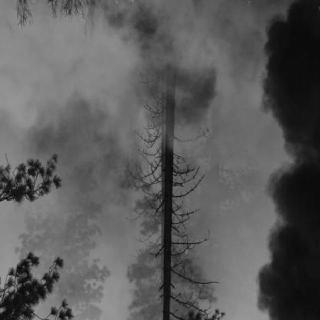Smoke: (234, 19, 306, 309), (12, 27, 126, 157)
